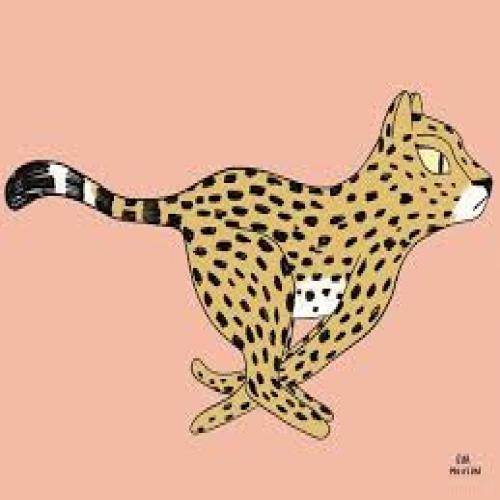cheetah-endangered: (10, 87, 490, 438)
